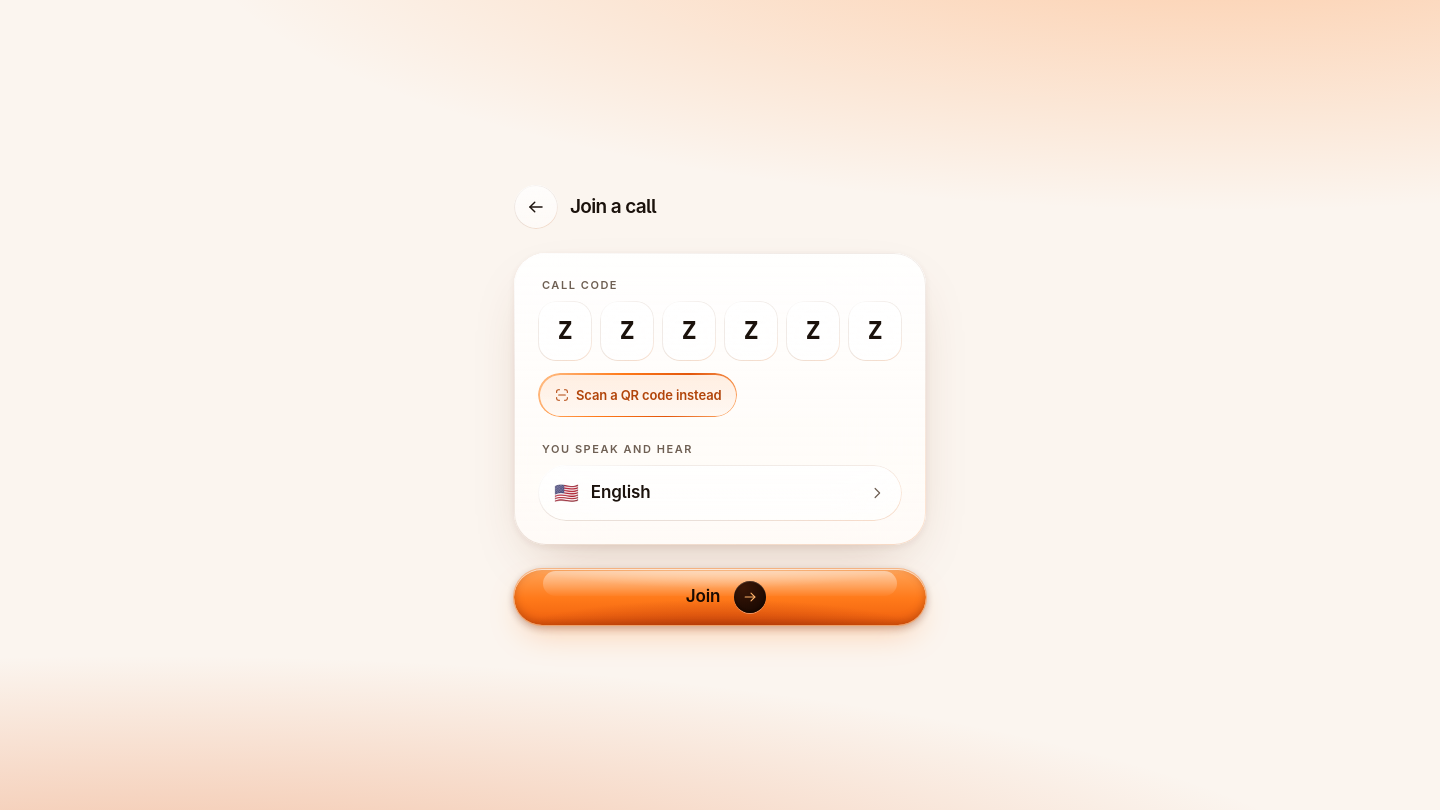
JoinCall › DEF-C04: a code nobody is hosting times out with an error instead of spinning forever
Later steps or results of the test are not shown.
Click the button "Join": (720, 597) left=514, top=569, right=926, bottom=625
Wait 12001 ms
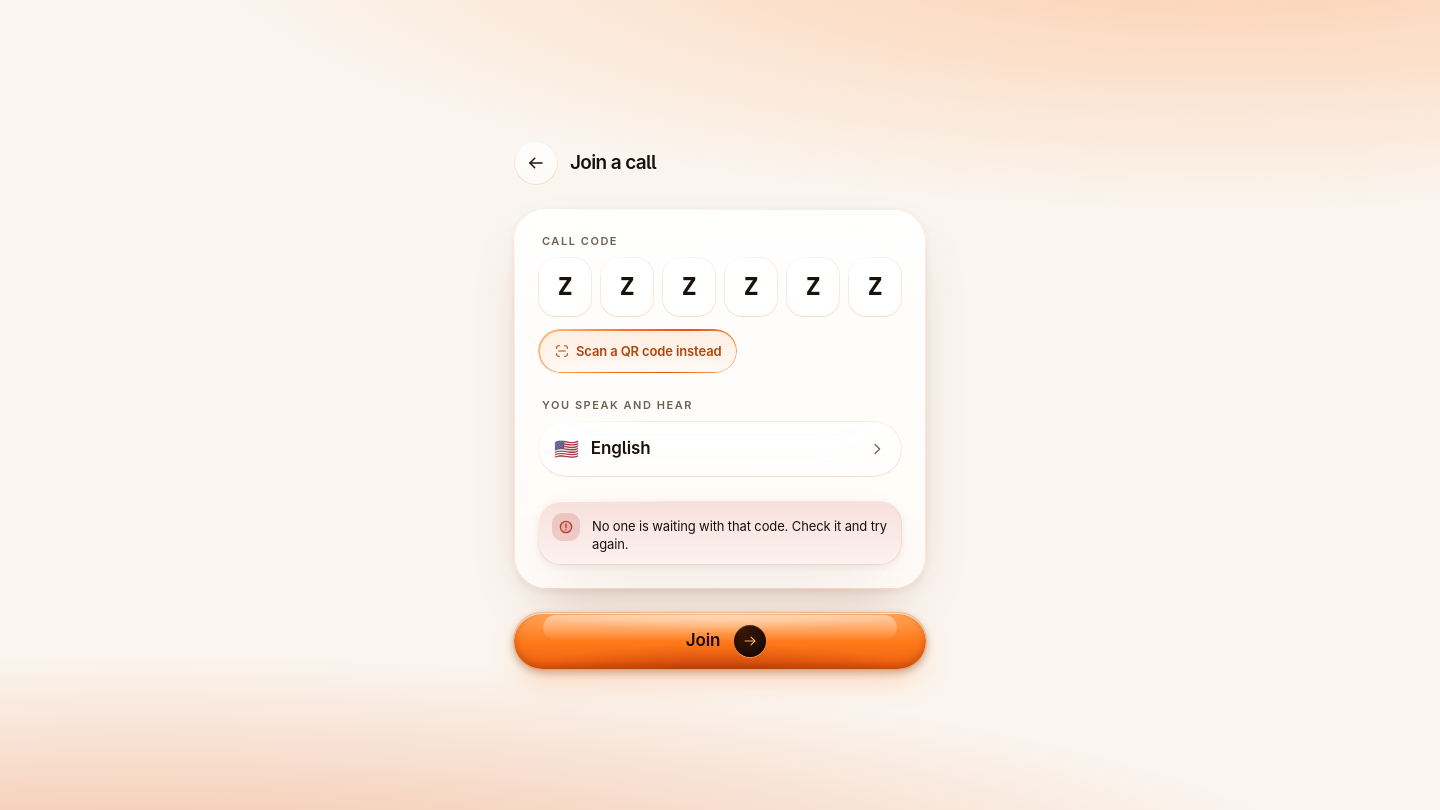
Expected: the button "Join" is enabled, left=514, top=613, right=926, bottom=669
Expected: the message shows "No one is waiting", left=592, top=518, right=887, bottom=552
